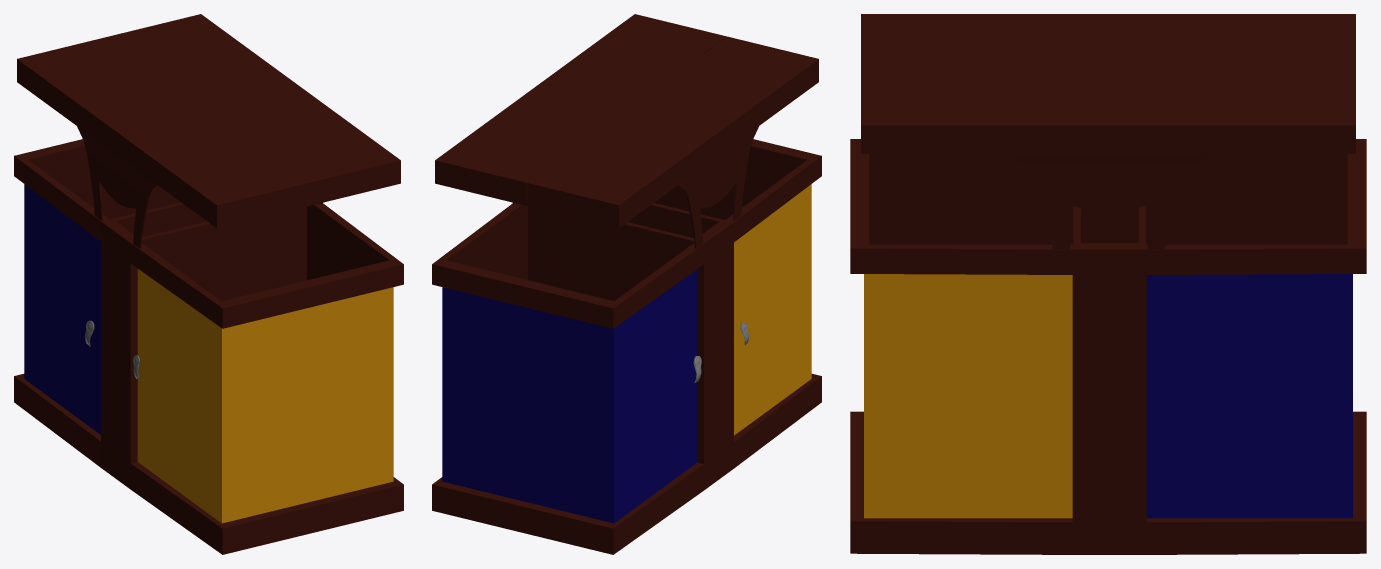
Rendered from 垃圾桶1.gltf.
3 views of the same model, side by side, from view 1: azimuth 30°, elevation 25°; view 2: azimuth 150°, elevation 25°; view 3: azimuth 270°, elevation 25° (orthographic). The views are drawn at different scales.
Parts seen in each view (by area): view 1: yellow, bin, top, top.001, blue; view 2: blue, bin, top, top.001, yellow; view 3: bin, top.001, yellow, blue, top.
Boxes of the visible parts, left/top/right/bottom form: yellow: left=137, top=269, right=393, bottom=523; bin: left=14, top=139, right=403, bottom=554; top: left=17, top=36, right=308, bottom=248; top.001: left=109, top=14, right=400, bottom=205; blue: left=24, top=184, right=100, bottom=434; blue: left=442, top=269, right=697, bottom=523; bin: left=432, top=139, right=821, bottom=554; top: left=527, top=36, right=818, bottom=248; top.001: left=435, top=14, right=726, bottom=205; yellow: left=734, top=184, right=811, bottom=435; bin: left=850, top=139, right=1366, bottom=554; top.001: left=861, top=69, right=1355, bottom=249; yellow: left=864, top=274, right=1072, bottom=518; blue: left=1146, top=274, right=1352, bottom=518; top: left=861, top=14, right=1355, bottom=69.
Bounding box in the file's own units: 0.7191 × 1.25 × 1.37.
